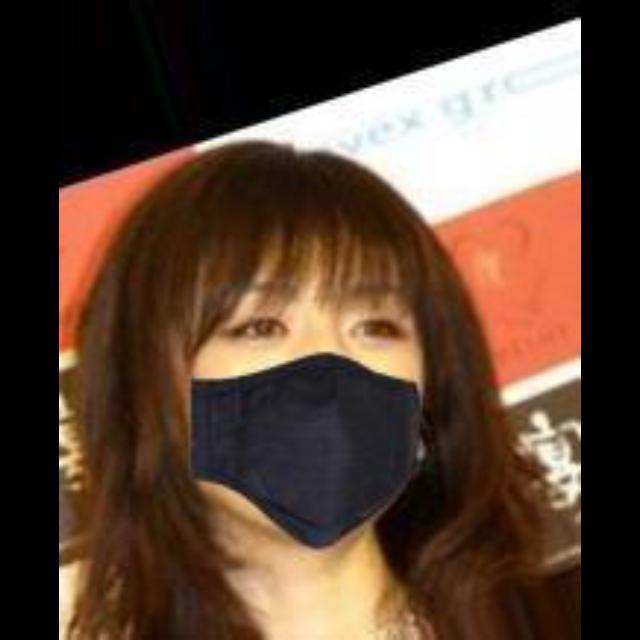suspicion: (140, 234, 432, 534)
